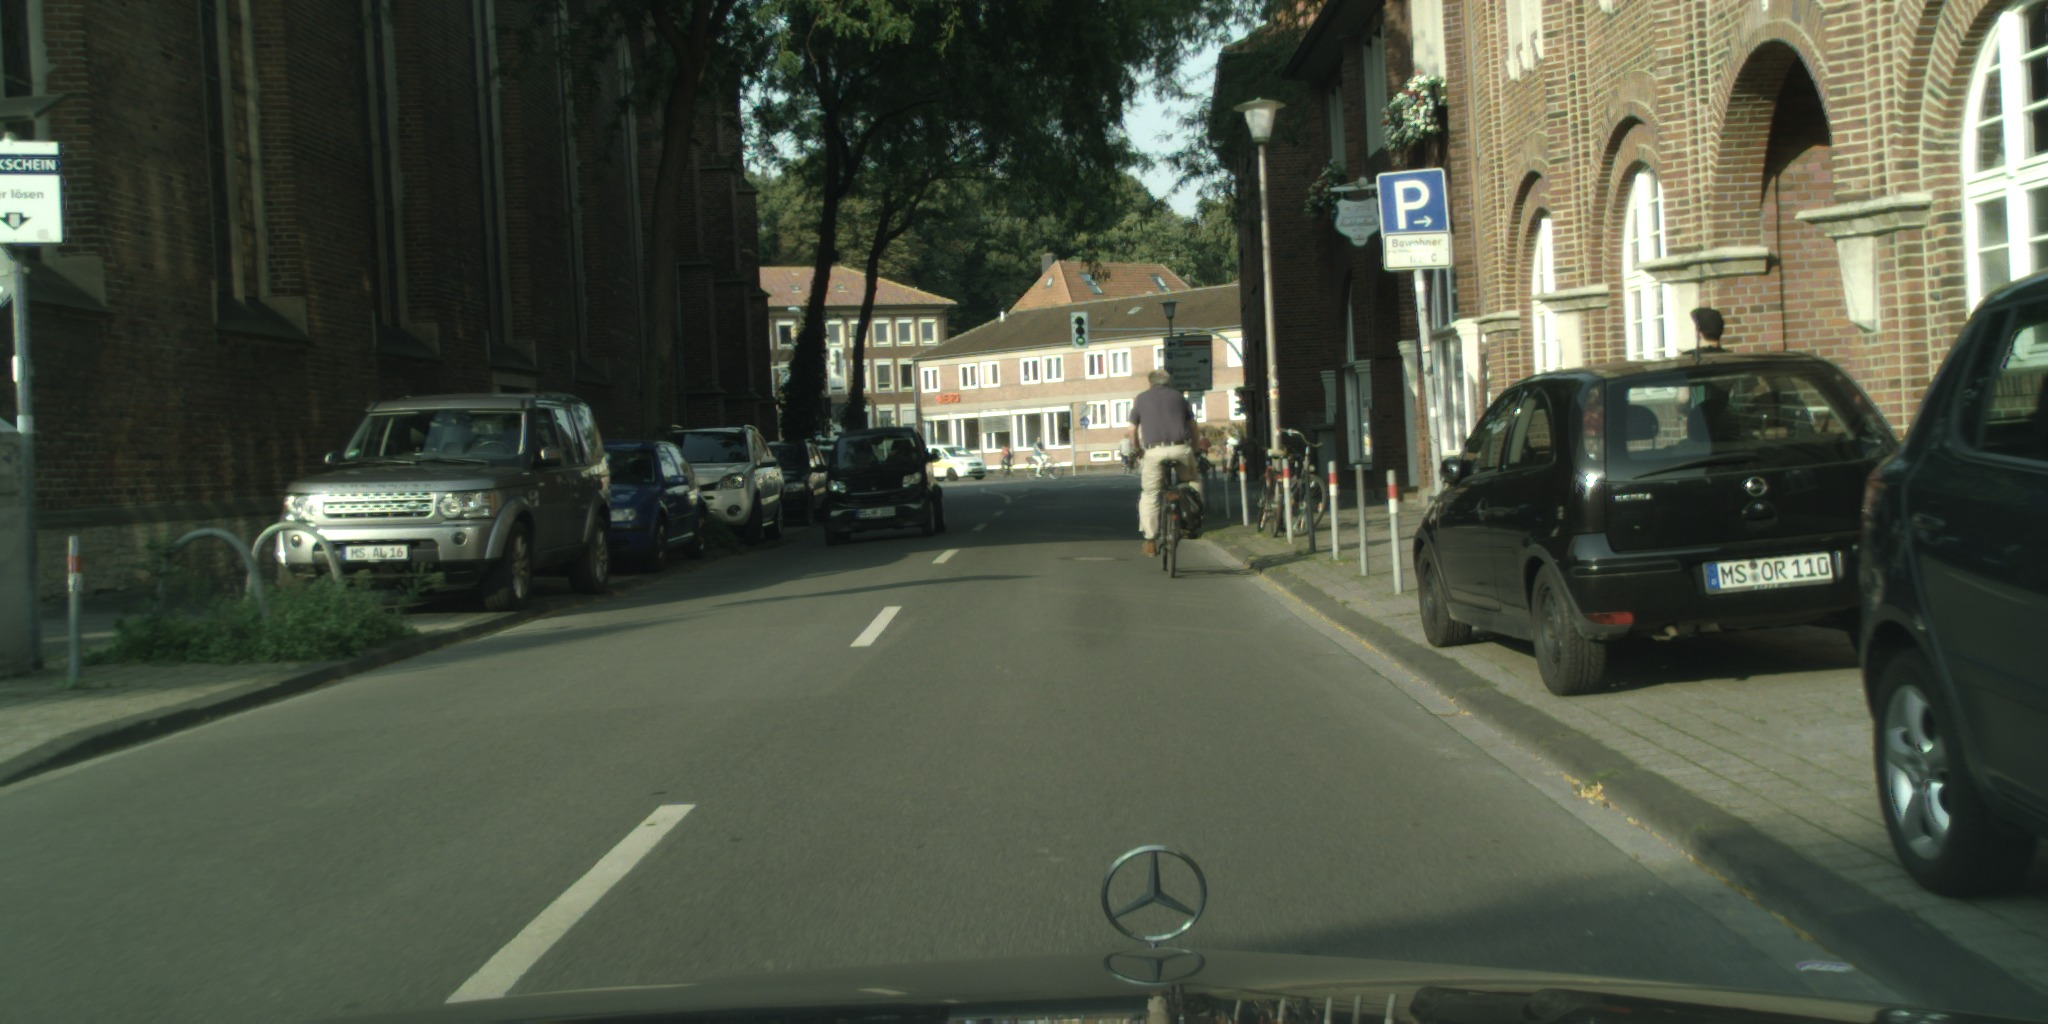bicycle: (1160, 457, 1205, 578), (1279, 429, 1327, 536), (1256, 447, 1286, 538), (1024, 452, 1064, 482), (996, 459, 1015, 480), (1121, 451, 1133, 474)
car: (1412, 349, 1903, 696), (1857, 267, 2048, 898), (271, 391, 612, 611), (587, 436, 709, 572), (810, 425, 946, 546), (658, 424, 786, 549), (756, 439, 832, 526), (922, 445, 986, 483)
person: (1679, 306, 1736, 386), (1223, 427, 1242, 482), (1199, 428, 1211, 466)
rider: (1126, 369, 1205, 558), (1030, 436, 1045, 480), (1117, 433, 1133, 466), (999, 445, 1013, 472)
